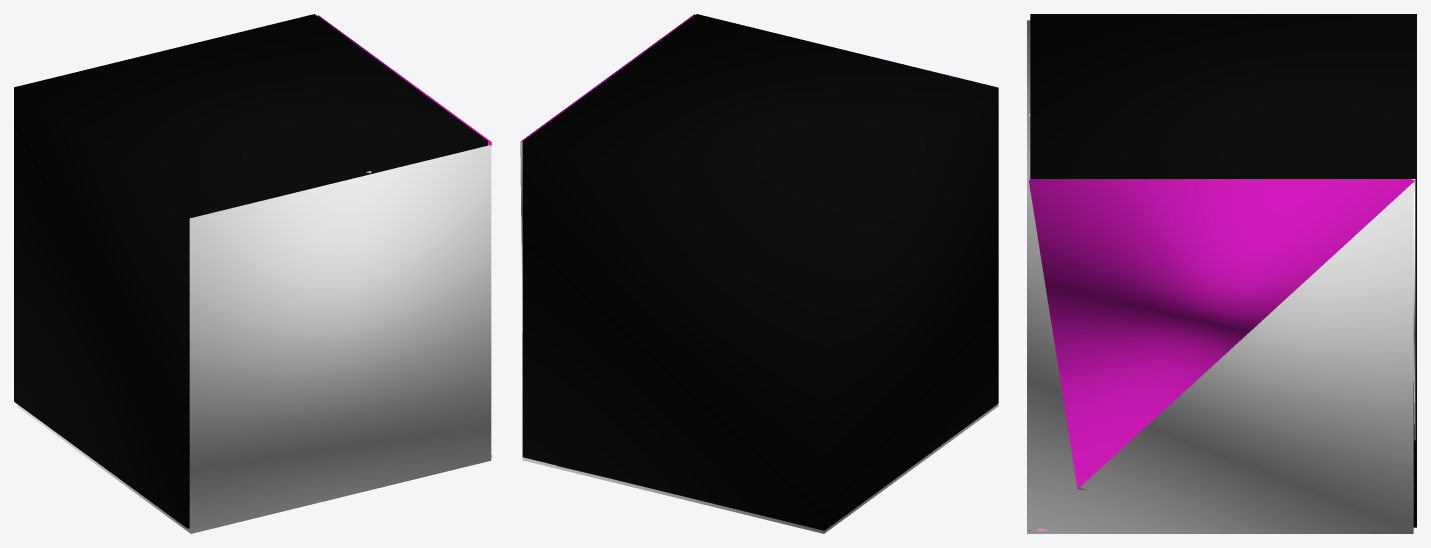
The picture shows the model from 3 angles, left to right: view 1: azimuth 30°, elevation 25°; view 2: azimuth 150°, elevation 25°; view 3: azimuth 270°, elevation 25°; orthographic projection. The views are drawn at different scales.
Parts seen in each view (by area): view 1: Renderer Node; view 2: Renderer Node; view 3: Renderer Node.
Boxes of the visible parts, left/top/right/bottom form: Renderer Node: left=14, top=14, right=491, bottom=533; Renderer Node: left=520, top=14, right=998, bottom=533; Renderer Node: left=1027, top=14, right=1416, bottom=533.
Bounding box in the file's own units: 1.12 × 1.13 × 1.12.
